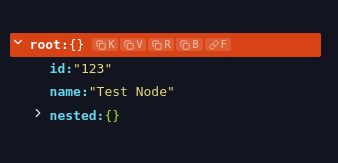
Scenario: JsonTreeView › can expand and collapse object nodes
Expected: the text "foo" is not shown
Step 1. Click the text "nested: {}" → (75, 114), box [31, 106, 120, 122]
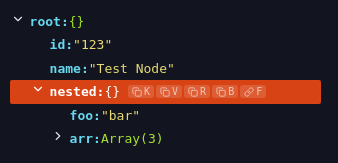
Result: the text "foo:" is shown at [70, 106, 101, 125]
Step 2. Click the text "nested: {} K V R B F" → (166, 92), box [10, 80, 321, 104]
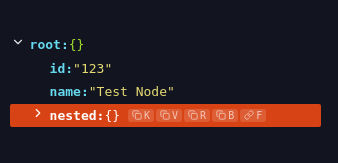
Result: the text "foo" is gone
